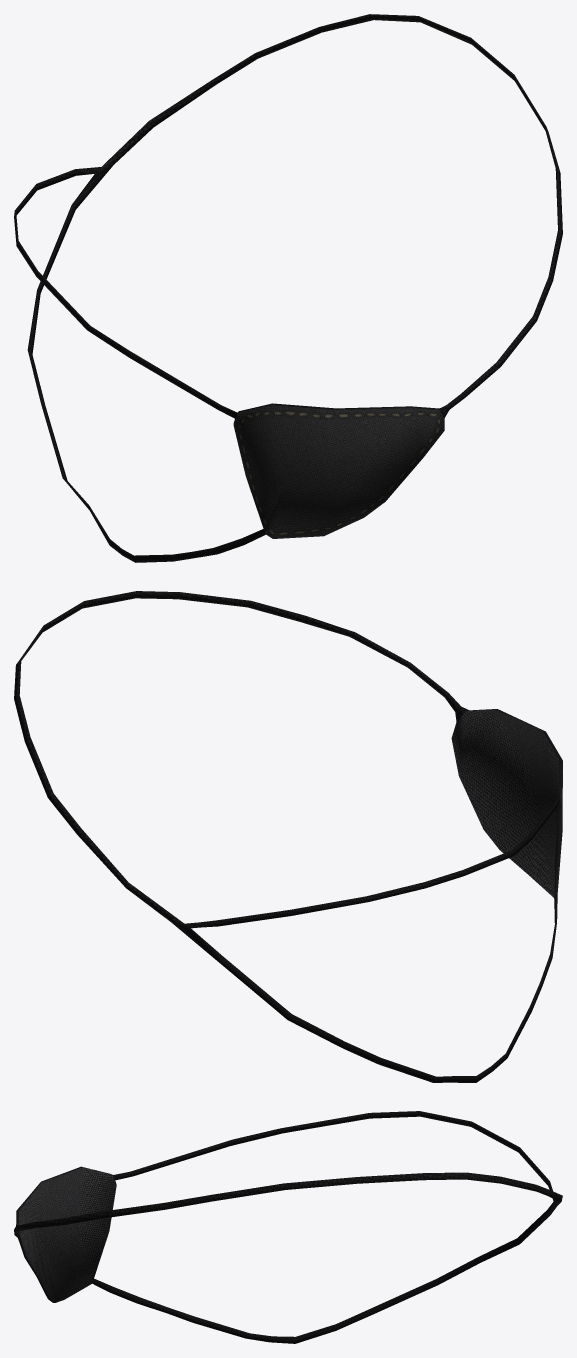
File: eyepatch.glb
3 views of the same model, one above another, from view 1: azimuth 30°, elevation 25°; view 2: azimuth 150°, elevation 25°; view 3: azimuth 270°, elevation 25° (orthographic). The views are drawn at different scales.
Visible parts, largest first — view 1: eyepatch_0; view 2: eyepatch_0; view 3: eyepatch_0.
Part boxes in pixels (left/top/right/bottom): eyepatch_0: left=14, top=14, right=562, bottom=562; eyepatch_0: left=14, top=591, right=562, bottom=1082; eyepatch_0: left=14, top=1111, right=562, bottom=1343.
Bounding box in the file's own units: 0.1545 × 0.1319 × 0.1964.
Materials: 1 (1 with a texture image).
